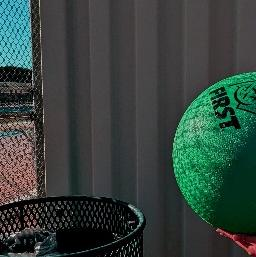algae: (171, 65, 256, 234)
